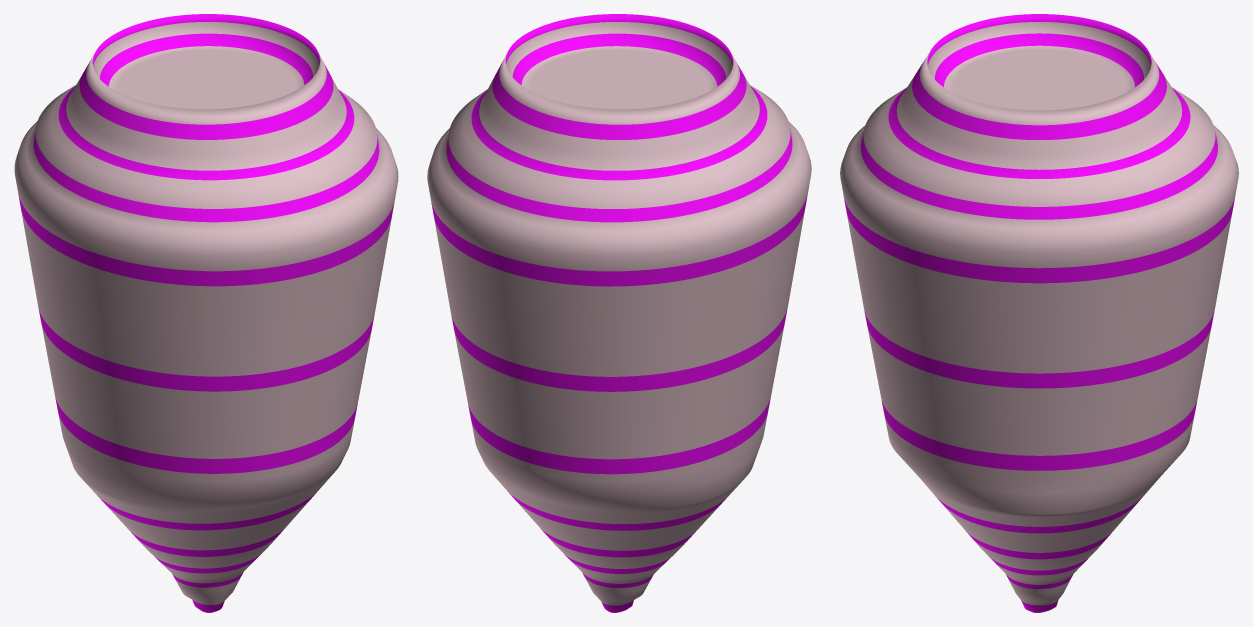
File: body-p.gltf
The picture shows the model from 3 angles, left to right: view 1: azimuth 30°, elevation 25°; view 2: azimuth 150°, elevation 25°; view 3: azimuth 270°, elevation 25°; orthographic projection.
Parts seen in each view (by area): view 1: Cylinder; view 2: Cylinder; view 3: Cylinder.
Part boxes in pixels (left/top/right/bottom): Cylinder: left=14, top=14, right=398, bottom=612; Cylinder: left=427, top=14, right=811, bottom=612; Cylinder: left=840, top=14, right=1238, bottom=612.
Size of the model in its own units: 1.27 by 2.03 by 1.34.
